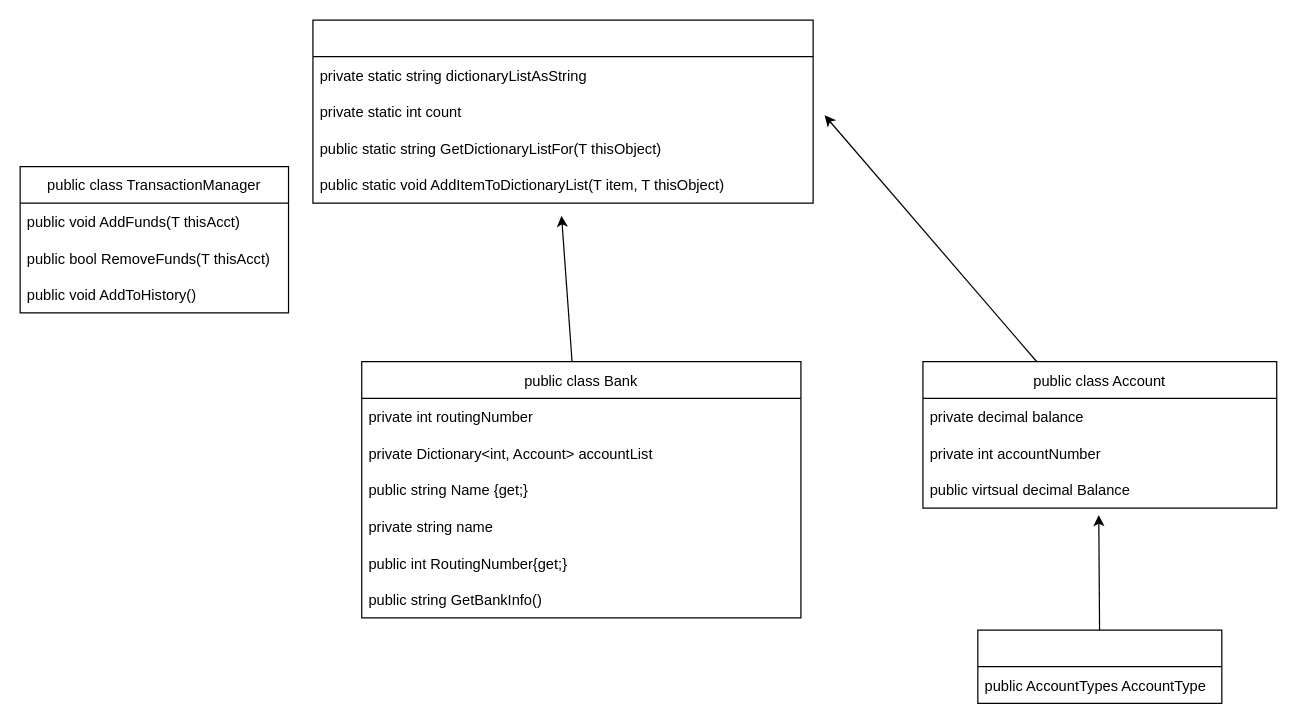
Image size: 1297x723. Some labels were removed from this diagram. Here are the shapes that lost their labels. From the top down, the box of each, then its label:
(312, 19, 813, 203): IHasDictionaryList
(977, 629, 1222, 703): public class SubAccount
